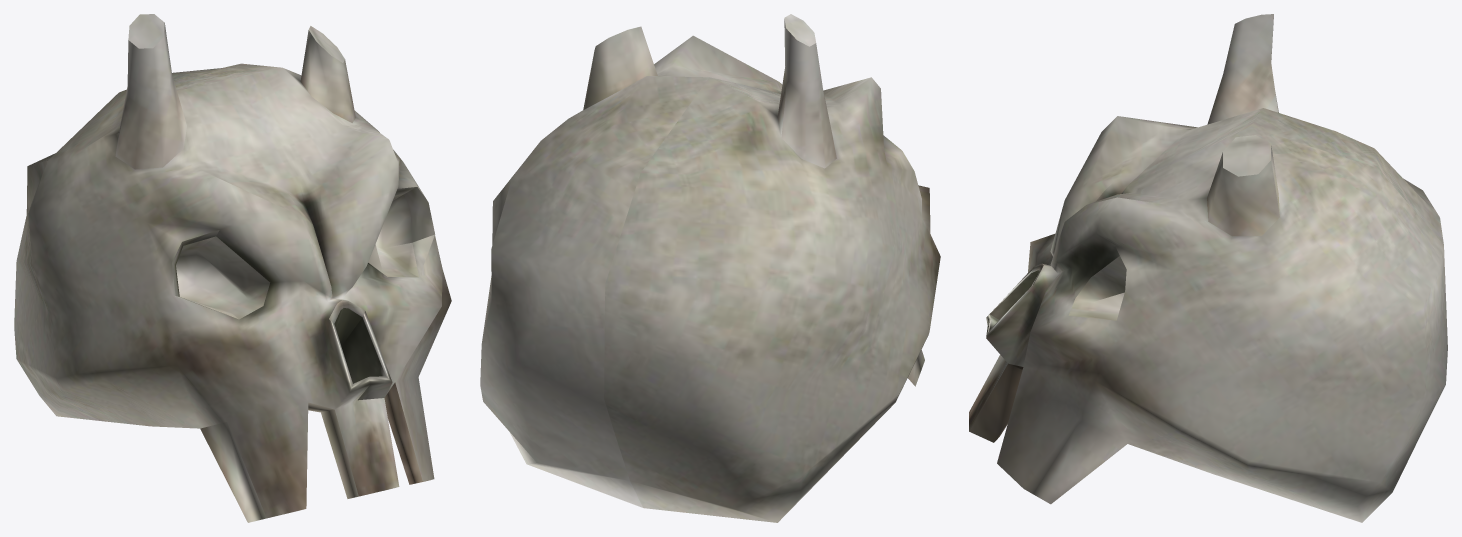
File: SM_SkullC.fbx
3 views of the same model, side by side, from view 1: azimuth 30°, elevation 25°; view 2: azimuth 150°, elevation 25°; view 3: azimuth 270°, elevation 25° (orthographic). The views are drawn at different scales.
Visible parts, largest first — view 1: SM_SkullC; view 2: SM_SkullC; view 3: SM_SkullC.
Part boxes in pixels (left/top/right/bottom): SM_SkullC: left=14, top=14, right=451, bottom=522; SM_SkullC: left=480, top=14, right=940, bottom=522; SM_SkullC: left=969, top=14, right=1447, bottom=522.
Size of the model in its own units: 23.2 by 27.4 by 28.08.
